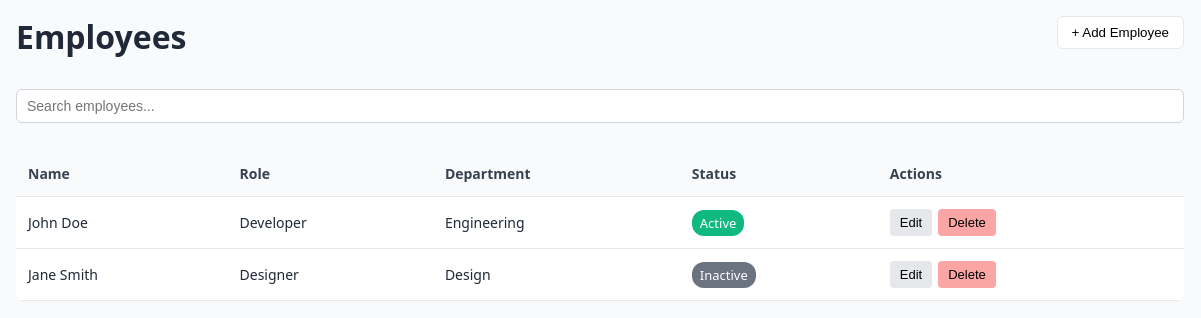
Test case: Employees Component › filters employees based on search term
Check: the text "John Doe" is shown, box [16,197,228,249]
Check: the text "Jane Smith" is shown, box [16,249,228,301]
Type "John" into the field with placeholder "Search employees..." at {"x": 600, "y": 106}, box [16,89,1184,123]
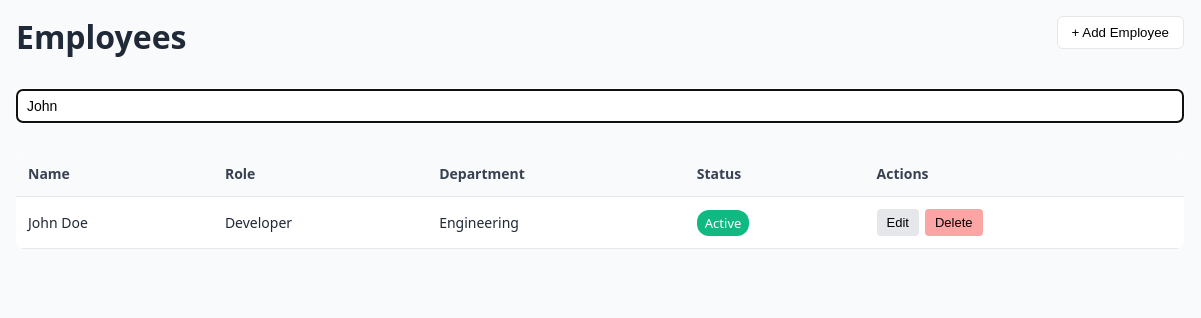
Check: the text "John Doe" is shown, box [16,197,213,249]
Check: the text "Jane Smith" is gone
